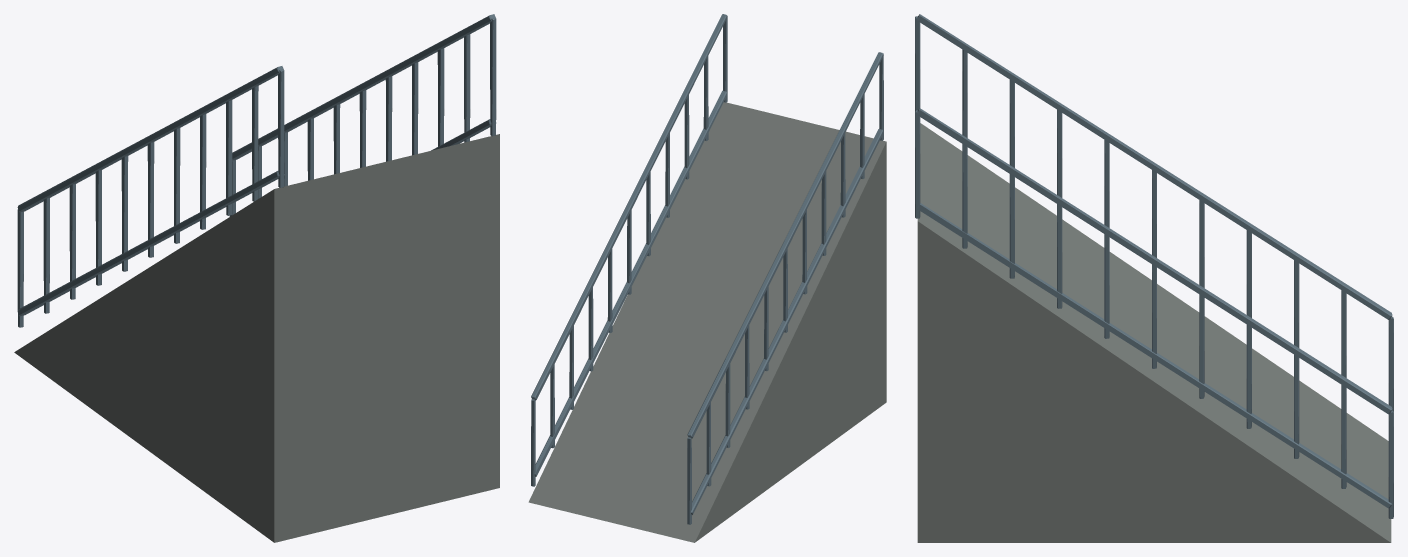
File: architecture-ramp.lod1.glb
3 renders of one model, left to right at view 1: azimuth 30°, elevation 25°; view 2: azimuth 150°, elevation 25°; view 3: azimuth 270°, elevation 25°, orthographic. The views are drawn at different scales.
Parts seen in each view (by area): view 1: architecture-ramp__body; view 2: architecture-ramp__body; view 3: architecture-ramp__body.
Boxes of the visible parts, x1,y1,x2,y2 form: architecture-ramp__body: (14, 14, 499, 542); architecture-ramp__body: (528, 14, 886, 542); architecture-ramp__body: (915, 14, 1393, 542).
Bounding box in the file's own units: 2 × 4.02 × 4.05.
